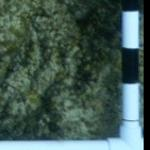dead: (5, 6, 114, 127)
